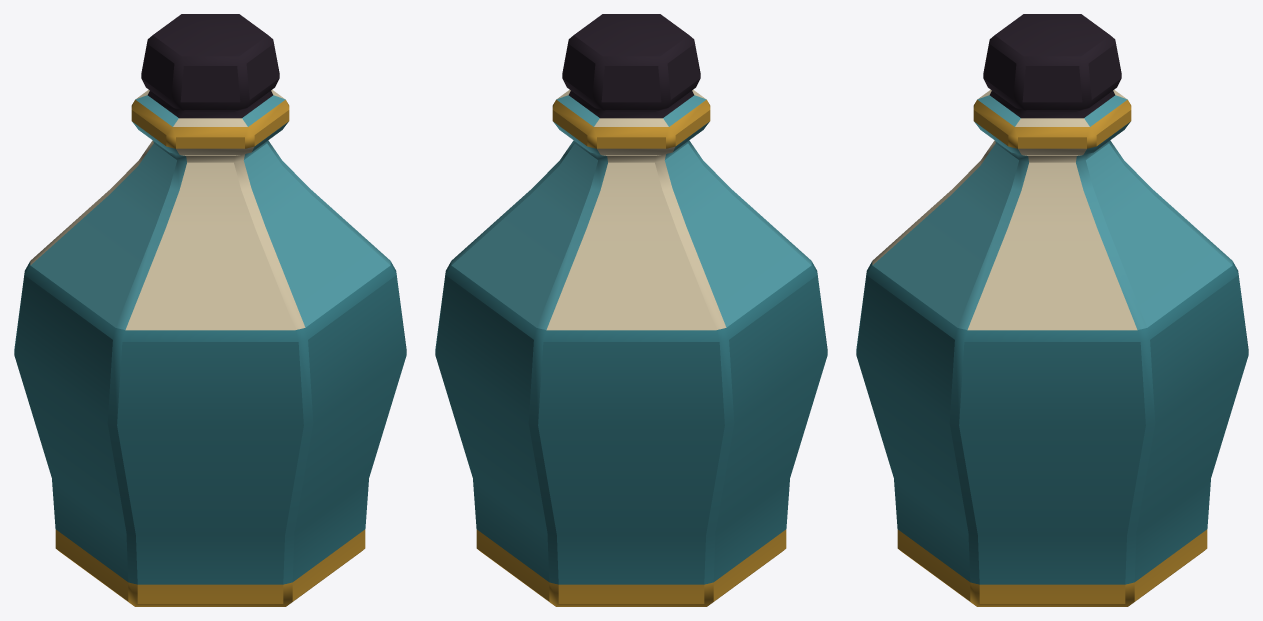
The model's file is Bottle_28.glb.
3 renders of one model, left to right at view 1: azimuth 30°, elevation 25°; view 2: azimuth 150°, elevation 25°; view 3: azimuth 270°, elevation 25°, orthographic.
Parts seen in each view (by area): view 1: Bottle_28; view 2: Bottle_28; view 3: Bottle_28.
Boxes of the visible parts, left/top/right/bottom form: Bottle_28: left=14, top=14, right=406, bottom=606; Bottle_28: left=435, top=14, right=827, bottom=606; Bottle_28: left=856, top=14, right=1248, bottom=606.
Bounding box in the file's own units: 1.38 × 2.31 × 1.57.
